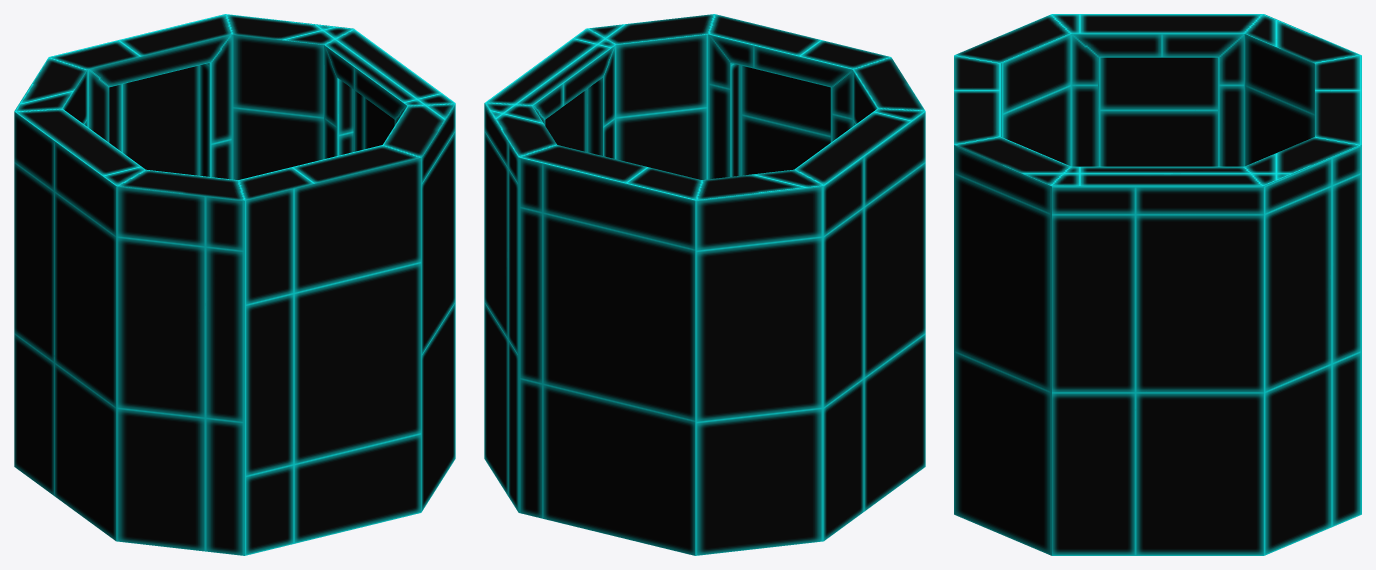
The model's file is tubeThingy.FBX.
3 renders of one model, left to right at view 1: azimuth 30°, elevation 25°; view 2: azimuth 150°, elevation 25°; view 3: azimuth 270°, elevation 25°, orthographic. The views are drawn at different scales.
Parts seen in each view (by area): view 1: Box001; view 2: Box001; view 3: Box001.
Part boxes in pixels (box(x1,y1,x2,y2)): Box001: box(14, 14, 455, 555); Box001: box(484, 14, 925, 555); Box001: box(954, 14, 1361, 555).
Bounding box in the file's own units: 39.37 × 39.37 × 39.37.
1 material, 1 textured.
